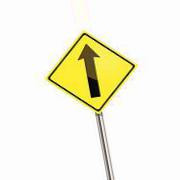forward: (45, 31, 135, 114)
